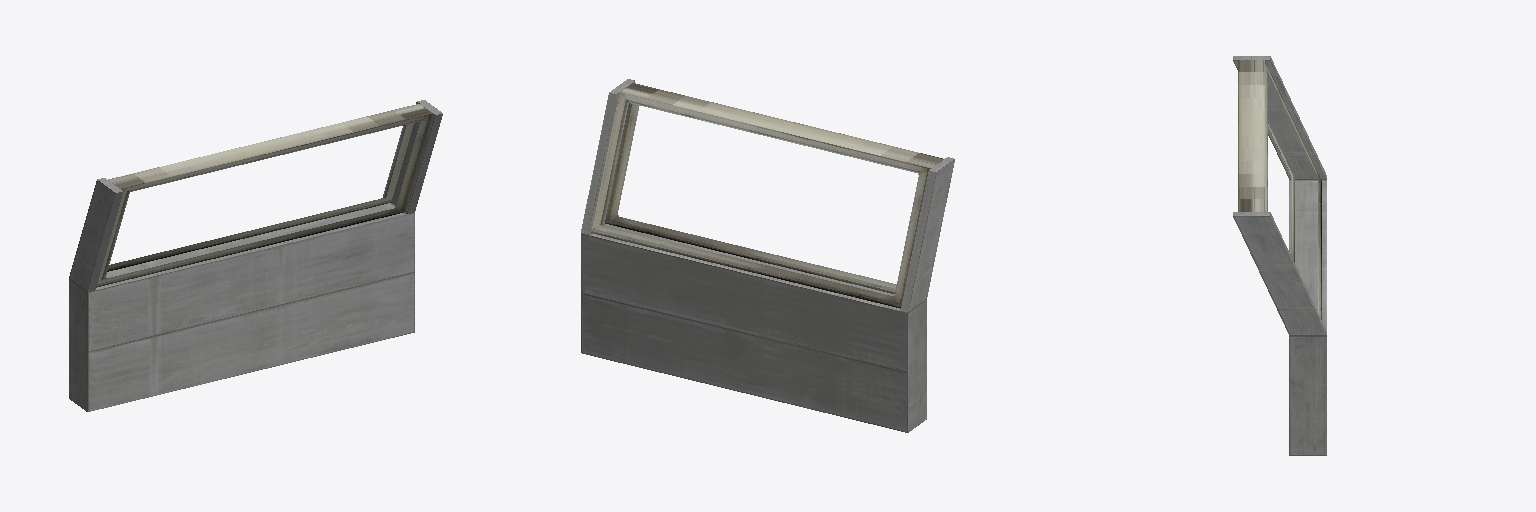
3 views of the same model, side by side, from view 1: azimuth 30°, elevation 25°; view 2: azimuth 150°, elevation 25°; view 3: azimuth 270°, elevation 25° (orthographic).
Parts seen in each view (by area): view 1: Cube.001_Cube.002, Cube.002_Cube.003; view 2: Cube.001_Cube.002, Cube.002_Cube.003; view 3: Cube.001_Cube.002, Cube.002_Cube.003.
Part boxes in pixels (bbox=[...]): Cube.001_Cube.002: bbox=[69, 100, 442, 411]; Cube.002_Cube.003: bbox=[96, 104, 432, 287]; Cube.001_Cube.002: bbox=[581, 79, 954, 432]; Cube.002_Cube.003: bbox=[591, 83, 943, 308]; Cube.001_Cube.002: bbox=[1233, 56, 1326, 455]; Cube.002_Cube.003: bbox=[1238, 60, 1321, 319].
Bounding box in the file's own units: 2 × 1.4 × 0.5.
Materials: 3 (1 with a texture image).